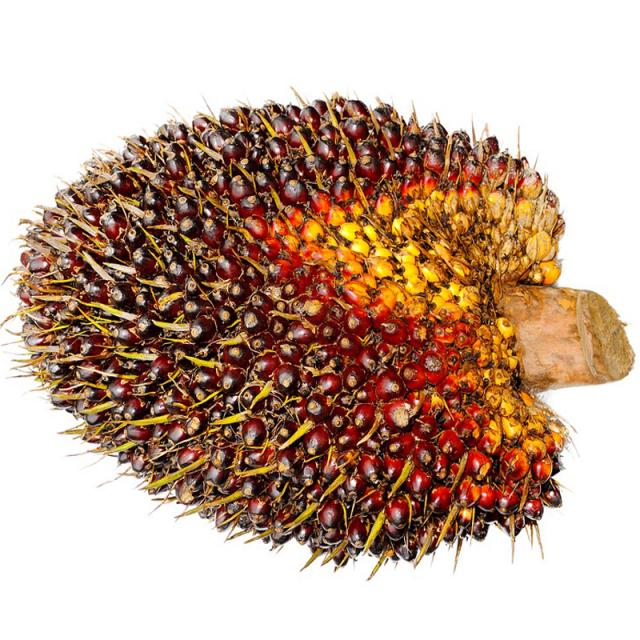FFB: (23, 104, 576, 579)
